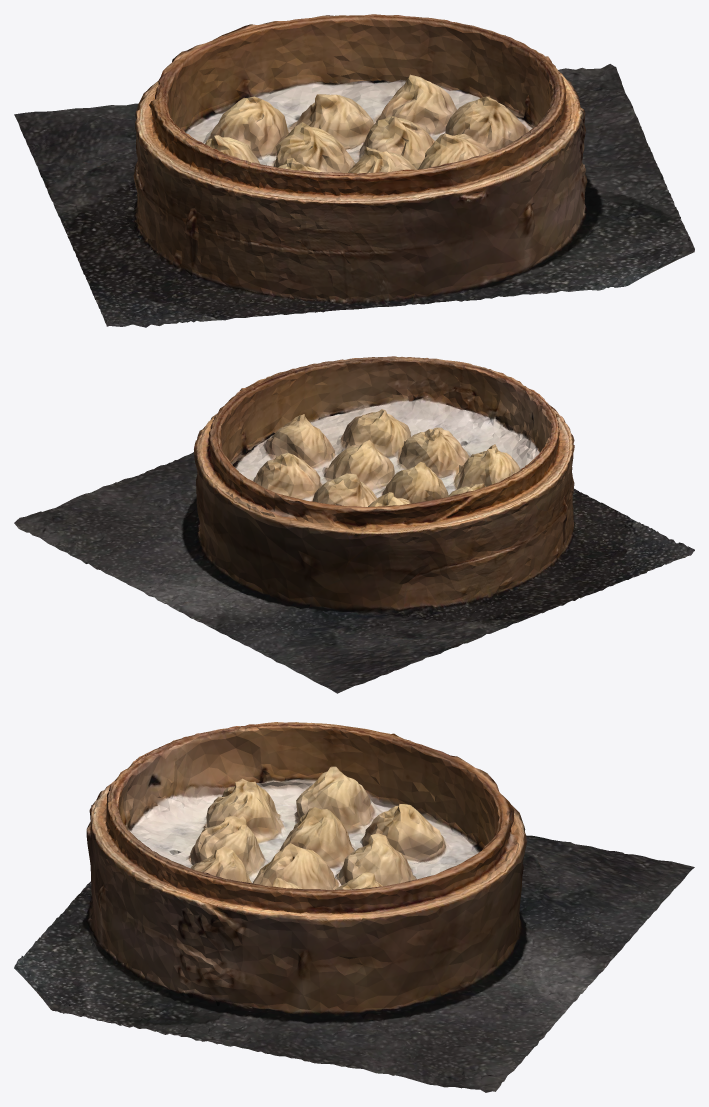
Rendered from momos.glb.
3 views of the same model, one above another, from view 1: azimuth 30°, elevation 25°; view 2: azimuth 150°, elevation 25°; view 3: azimuth 270°, elevation 25° (orthographic). The views are drawn at different scales.
Bounding box in the file's own units: 1.83 × 0.368 × 1.69.
Materials: 1 (1 with a texture image).
